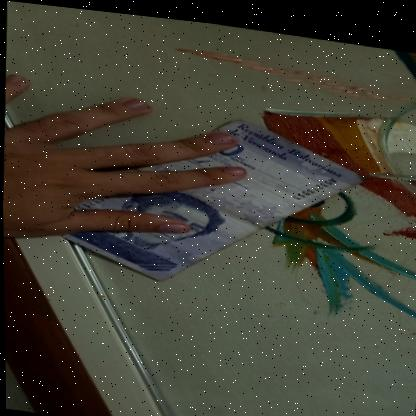ten-front-vef: (51, 92, 369, 301)
